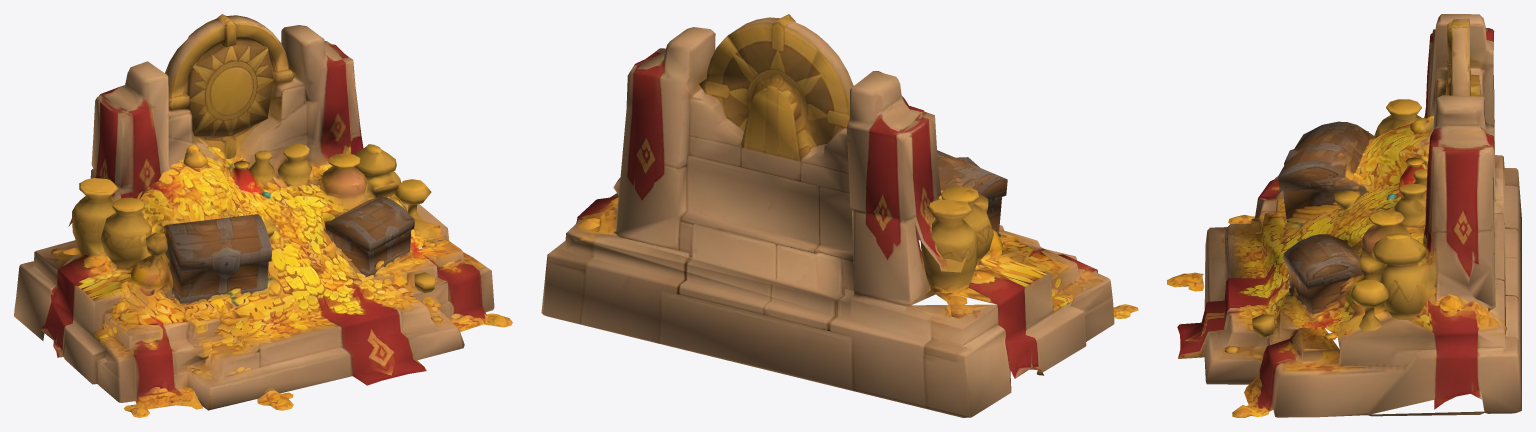
File: SM_Tripo_DesertTreasureHoard.glb
3 renders of one model, left to right at view 1: azimuth 30°, elevation 25°; view 2: azimuth 150°, elevation 25°; view 3: azimuth 270°, elevation 25°, orthographic. The views are drawn at different scales.
Parts seen in each view (by area): view 1: SM_Tripo_DesertTreasureHoard_LOD0; view 2: SM_Tripo_DesertTreasureHoard_LOD0; view 3: SM_Tripo_DesertTreasureHoard_LOD0.
Part boxes in pixels (x1,y1,x2,y2): SM_Tripo_DesertTreasureHoard_LOD0: [14, 14, 512, 417]; SM_Tripo_DesertTreasureHoard_LOD0: [541, 14, 1138, 417]; SM_Tripo_DesertTreasureHoard_LOD0: [1167, 14, 1521, 417].
Size of the model in its own units: 2.6 by 1.8 by 1.93.
Materials: 1 (1 with a texture image).
